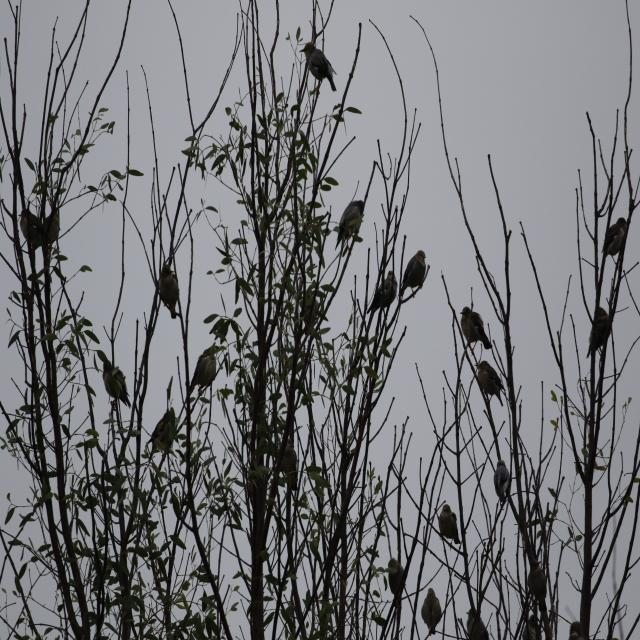bird: (300, 42, 336, 92), (336, 200, 364, 256), (147, 411, 177, 461), (102, 361, 132, 408), (460, 307, 493, 349), (586, 307, 612, 359), (398, 250, 426, 297), (474, 361, 503, 406), (367, 271, 397, 314), (188, 348, 216, 394), (601, 217, 627, 266), (158, 265, 179, 319), (439, 504, 461, 550), (421, 588, 442, 636), (528, 560, 548, 610), (388, 558, 406, 606), (18, 209, 42, 243), (281, 438, 297, 488), (494, 459, 509, 510), (466, 609, 490, 639), (303, 290, 319, 334), (42, 209, 59, 247), (522, 614, 542, 639)
